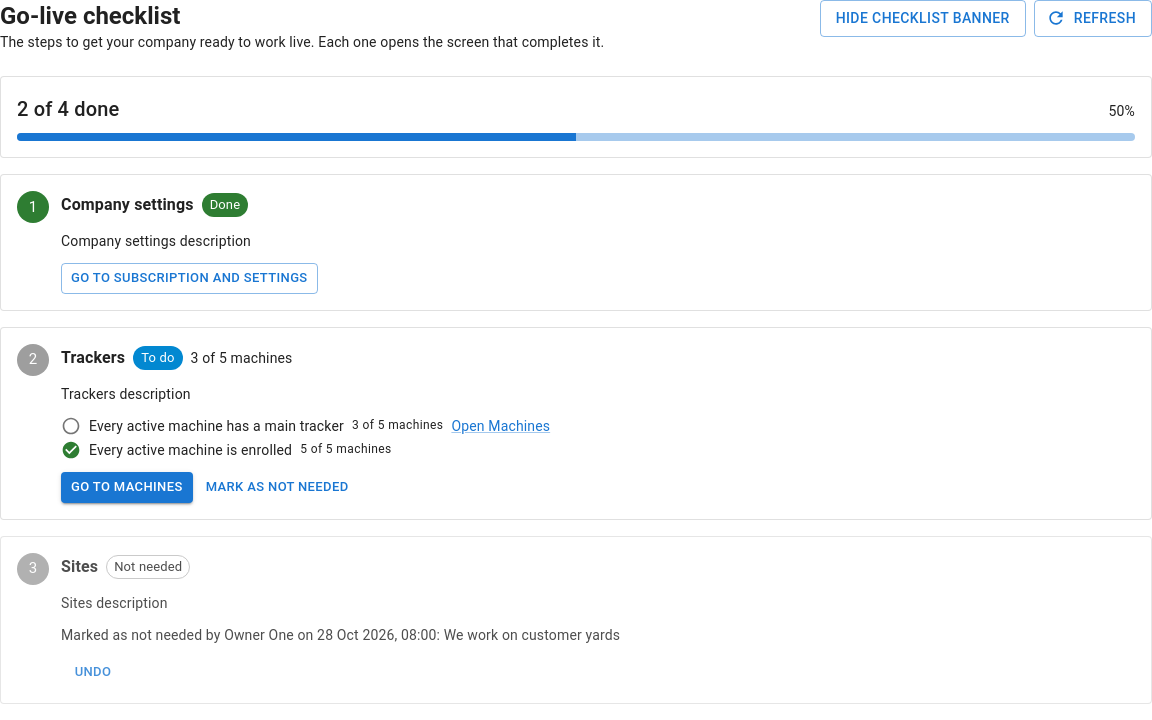
go-live checklist page › marks a step as not needed with a reason and refreshes /me
Click the button "Mark as not needed": (277, 487) x1=201 y1=472 x2=354 y2=503
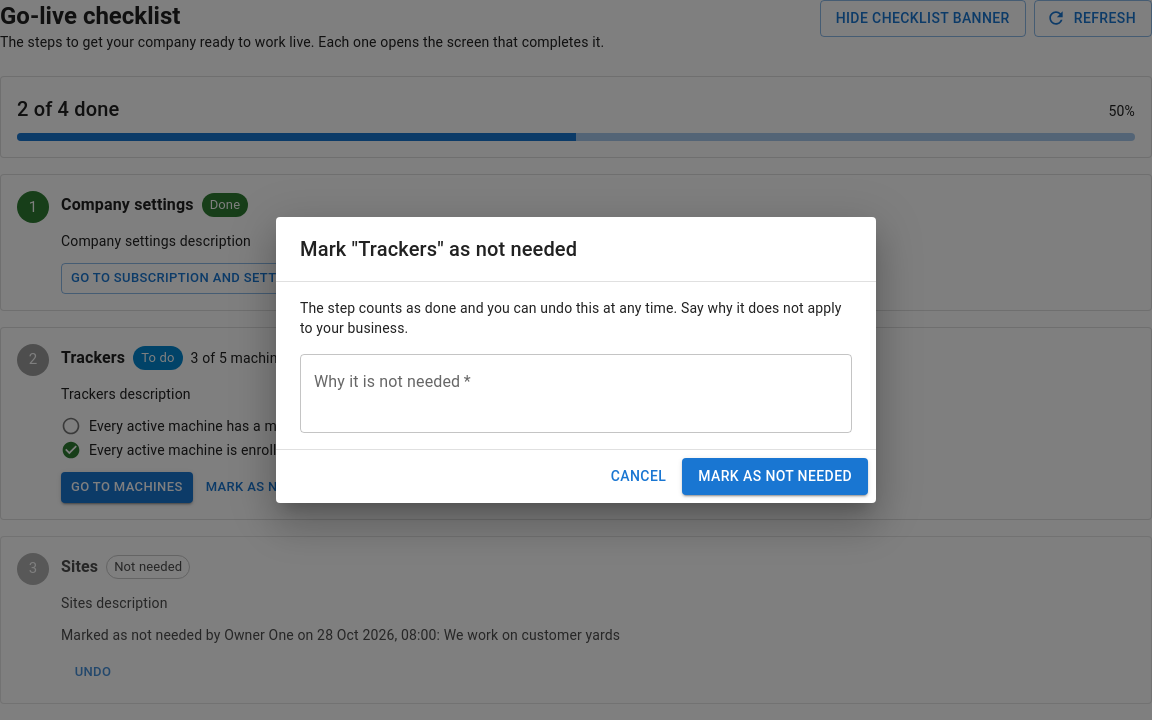
In the text box labelled "Why it is not needed *": (576, 394) x1=314 y1=371 x2=838 y2=417, type "No trackers"
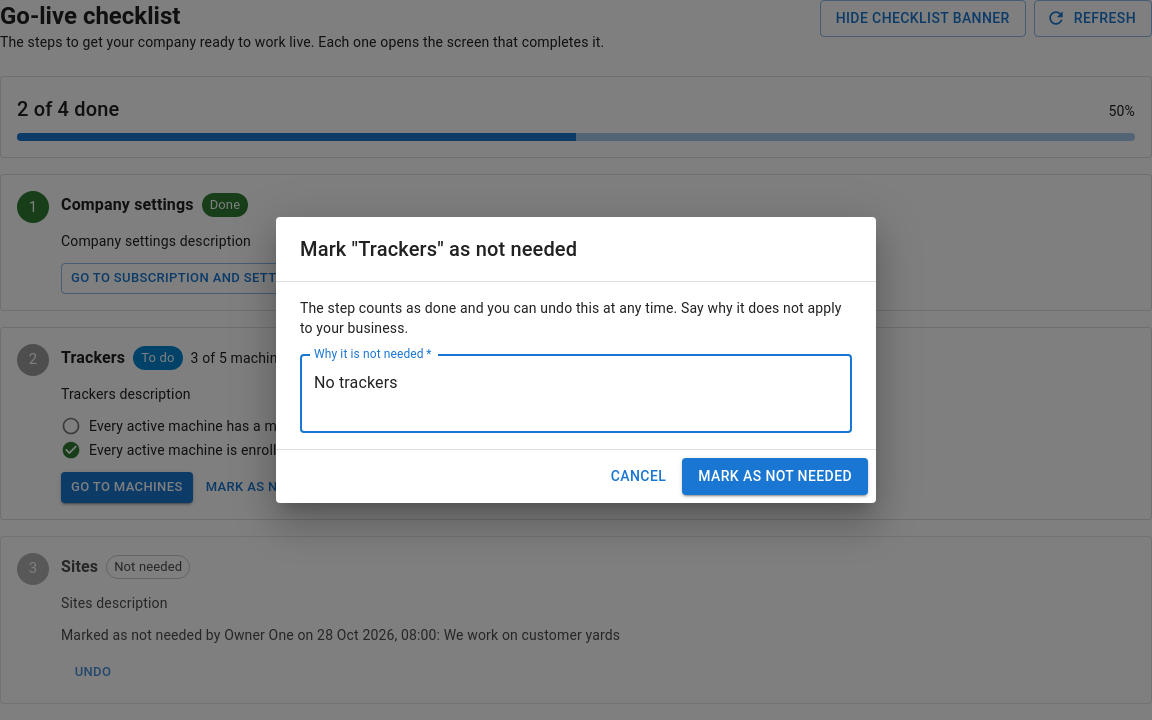
Click the button "Mark as not needed": (775, 477) x1=682 y1=458 x2=868 y2=495
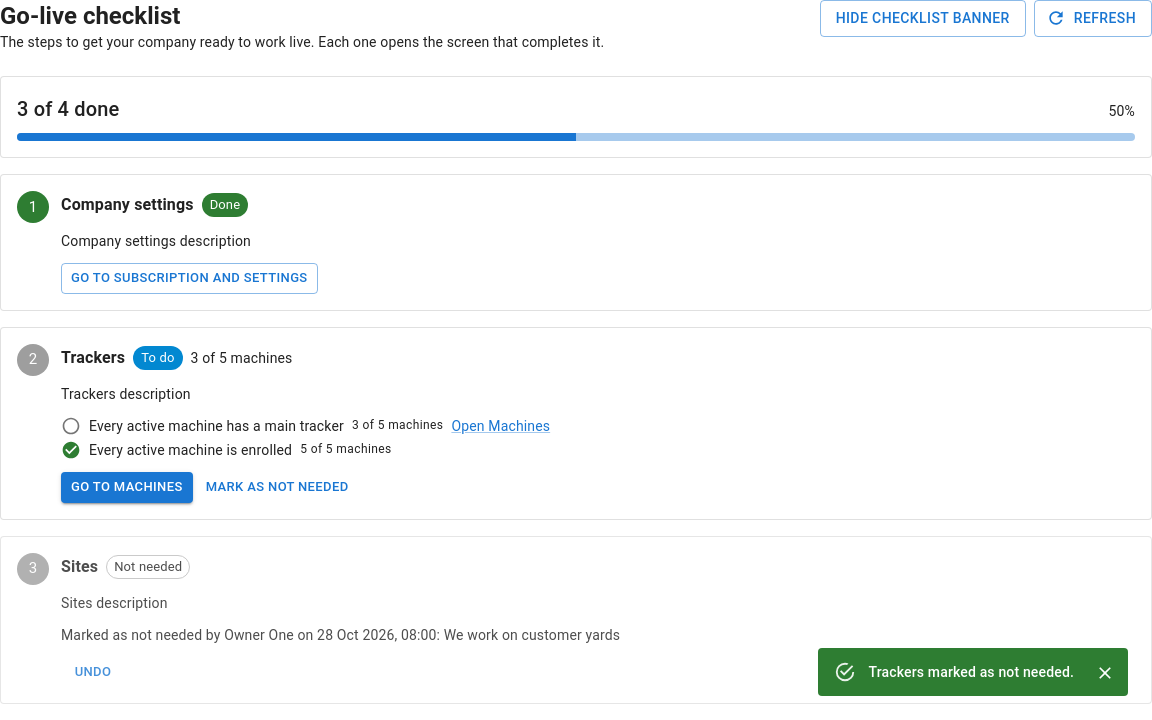
Now the text "3 of 4 done" is shown, box x1=17 y1=93 x2=119 y2=125
